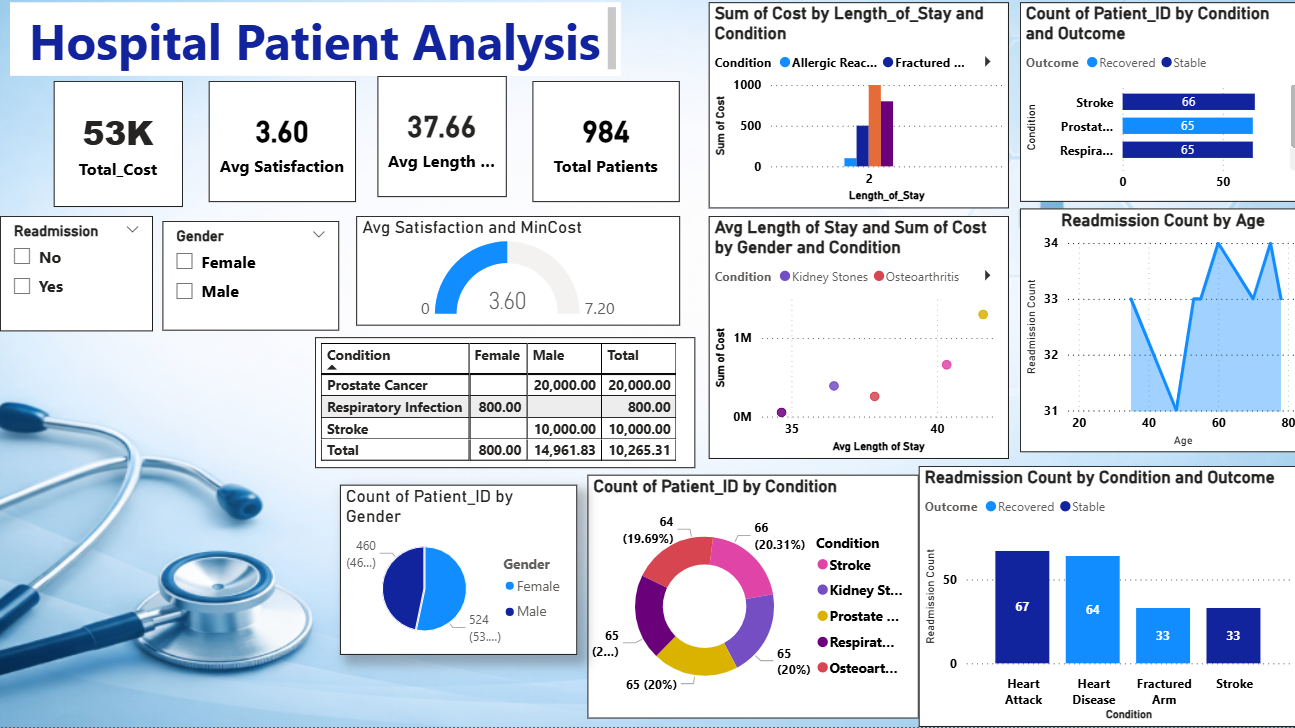

Layout of this report page (visuals, bound fields, positions):
{"tool":"powerbi","page":{"name":"Page 1","canvas":[1280,720],"ordinal":0},"visuals":[{"type":"barChart","fields":{"Category":["hospital data analysis.Condition"],"Series":["hospital data analysis.Outcome"],"Y":["CountNonNull(hospital data analysis.Patient_ID)"]},"box":[997.6,11,278.6,194.9],"z":0},{"type":"donutChart","fields":{"Y":["CountNonNull(hospital data analysis.Patient_ID)"],"Category":["hospital data analysis.Condition"]},"box":[575,473.4,323.8,238.8],"z":1000},{"type":"columnChart","fields":{"Category":["hospital data analysis.Condition"],"Y":["hospital data analysis.Avg Length of Stay"],"Series":["hospital data analysis.Outcome"]},"box":[898.8,465.2,370.5,255.2],"z":2000},{"type":"areaChart","fields":{"Category":["hospital data analysis.Age"],"Y":["hospital data analysis.Readmission Count"]},"box":[997.6,212.7,278.6,238.8],"z":3000},{"type":"clusteredColumnChart","fields":{"Category":["hospital data analysis.Length_of_Stay"],"Y":["Sum(hospital data analysis.Cost)"],"Series":["hospital data analysis.Condition"]},"box":[693,11,293.7,201.7],"z":4000},{"type":"scatterChart","fields":{"X":["hospital data analysis.Avg Length of Stay"],"Y":["Sum(hospital data analysis.Cost)"],"Series":["hospital data analysis.Condition"],"Category":["hospital data analysis.Gender"]},"box":[693,219.6,293.7,237.4],"z":5000},{"type":"pivotTable","fields":{"Rows":["hospital data analysis.Condition"],"Columns":["hospital data analysis.Gender"],"Values":["hospital data analysis.Avg Cost"]},"box":[308.7,338.9,371.9,127.6],"z":6000},{"type":"card","fields":{"Values":["hospital data analysis.Total_Cost"]},"box":[52.1,87.8,126.2,123.5],"z":7000},{"type":"card","fields":{"Values":["hospital data analysis.Total Patients"]},"box":[521.4,87.8,144.1,118],"z":8000},{"type":"card","fields":{"Values":["hospital data analysis.Avg Length of Stay"]},"box":[369.1,83.7,126.2,118],"z":9000},{"type":"card","fields":{"Values":["hospital data analysis.Avg Satisfaction"]},"box":[204.5,87.8,144.1,118],"z":10000},{"type":"slicer","fields":{"Values":["hospital data analysis.Gender"]},"box":[159.2,225,172.9,107],"z":11000},{"type":"slicer","fields":{"Values":["hospital data analysis.Readmission"]},"box":[0,219.6,149.6,112.5],"z":12000},{"type":"textbox","box":[9.8,11,598,72.1],"z":13000},{"type":"pieChart","fields":{"Category":["hospital data analysis.Gender"],"Y":["CountNonNull(hospital data analysis.Patient_ID)"]},"box":[332.1,483,231.9,166],"z":14000},{"type":"gauge","fields":{"Y":["hospital data analysis.Avg Satisfaction"],"MinValue":["hospital data analysis.MinCost"]},"box":[348.5,219.6,317,107],"z":15001}]}

Visuals, with their boxes in screenshot pixels (x1, y1, x2, y2), scaled from the page's 1280x720 canvas onto the 1295x728 screenshot:
barChart - hospital data analysis.Condition x hospital data analysis.Outcome: {"x1": 1009, "y1": 11, "x2": 1291, "y2": 208}
donutChart - CountNonNull(hospital data analysis.Patient_ID) x hospital data analysis.Condition: {"x1": 582, "y1": 479, "x2": 909, "y2": 720}
columnChart - hospital data analysis.Condition x hospital data analysis.Avg Length of Stay: {"x1": 909, "y1": 470, "x2": 1284, "y2": 727}
areaChart - hospital data analysis.Age x hospital data analysis.Readmission Count: {"x1": 1009, "y1": 215, "x2": 1291, "y2": 457}
clusteredColumnChart - hospital data analysis.Length_of_Stay x Sum(hospital data analysis.Cost): {"x1": 701, "y1": 11, "x2": 998, "y2": 215}
scatterChart - hospital data analysis.Avg Length of Stay x Sum(hospital data analysis.Cost): {"x1": 701, "y1": 222, "x2": 998, "y2": 462}
pivotTable - hospital data analysis.Condition x hospital data analysis.Gender: {"x1": 312, "y1": 343, "x2": 689, "y2": 472}
card - hospital data analysis.Total_Cost: {"x1": 53, "y1": 89, "x2": 180, "y2": 214}
card - hospital data analysis.Total Patients: {"x1": 528, "y1": 89, "x2": 673, "y2": 208}
card - hospital data analysis.Avg Length of Stay: {"x1": 373, "y1": 85, "x2": 501, "y2": 204}
card - hospital data analysis.Avg Satisfaction: {"x1": 207, "y1": 89, "x2": 353, "y2": 208}
slicer - hospital data analysis.Gender: {"x1": 161, "y1": 228, "x2": 336, "y2": 336}
slicer - hospital data analysis.Readmission: {"x1": 0, "y1": 222, "x2": 151, "y2": 336}
textbox: {"x1": 10, "y1": 11, "x2": 615, "y2": 84}
pieChart - hospital data analysis.Gender x CountNonNull(hospital data analysis.Patient_ID): {"x1": 336, "y1": 488, "x2": 571, "y2": 656}
gauge - hospital data analysis.Avg Satisfaction x hospital data analysis.MinCost: {"x1": 353, "y1": 222, "x2": 673, "y2": 330}
